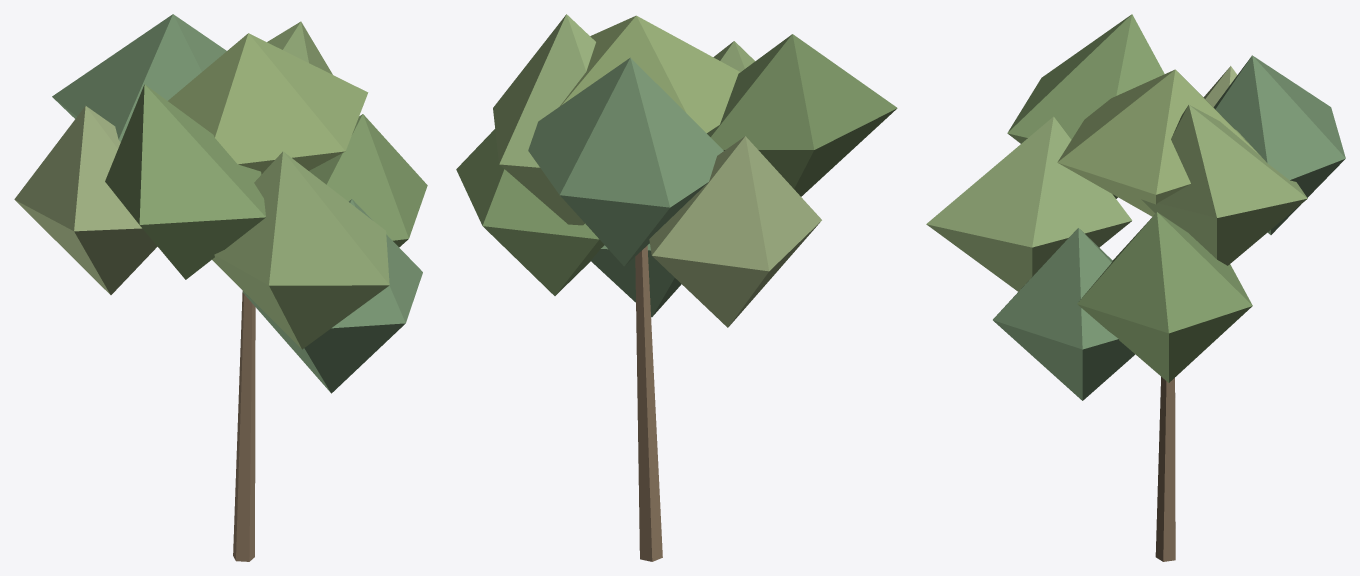
3 renders of one model, left to right at view 1: azimuth 30°, elevation 25°; view 2: azimuth 150°, elevation 25°; view 3: azimuth 270°, elevation 25°, orthographic. The views are drawn at different scales.
Bounding box in the file's own units: 9.23 × 12.85 × 9.93.
